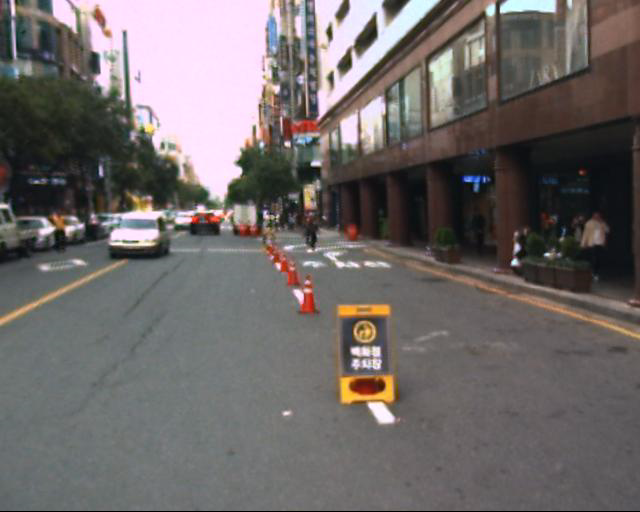person: (572, 204, 617, 283), (44, 195, 78, 259), (462, 202, 492, 264), (294, 211, 329, 258), (298, 207, 324, 248)
